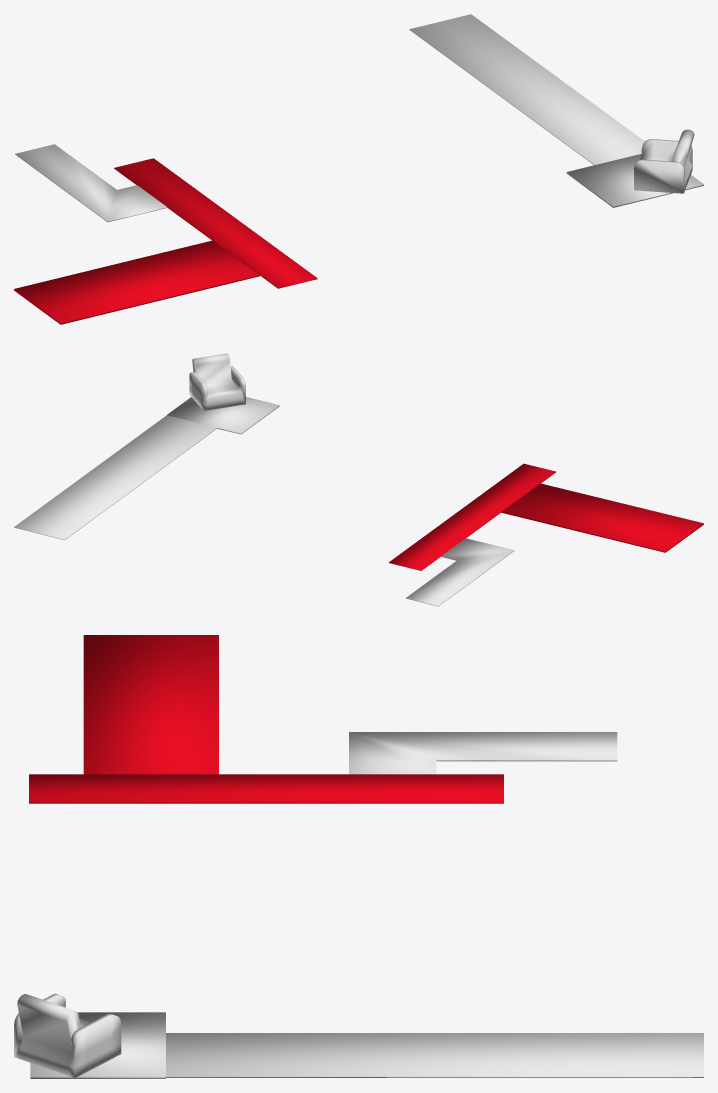
Rendered from SantaWorksTapijt.fbx.
3 renders of one model, top to bottom at view 1: azimuth 30°, elevation 25°; view 2: azimuth 150°, elevation 25°; view 3: azimuth 270°, elevation 25°, orthographic. The views are drawn at different scales.
Parts seen in each view (by area): view 1: tapijt.004, tapijt, tapijt.002, tapijt.001, Cube.097, tapijt.003; view 2: tapijt.004, tapijt, tapijt.002, tapijt.001, Cube.097, tapijt.003; view 3: tapijt.004, tapijt, tapijt.002, tapijt.001, Cube.097, tapijt.003.
Part boxes in pixels (box(x1,y1,x2,y2)): tapijt.004: box(409, 14, 644, 165); tapijt: box(14, 240, 259, 324); tapijt.002: box(114, 158, 317, 288); tapijt.001: box(15, 144, 167, 222); Cube.097: box(634, 129, 694, 193); tapijt.003: box(566, 154, 703, 207); tapijt.004: box(14, 415, 217, 539); tapijt: box(501, 483, 703, 552); tapijt.002: box(388, 463, 555, 570); tapijt.001: box(405, 538, 514, 606); Cube.097: box(189, 353, 245, 410); tapijt.003: box(167, 397, 279, 434); tapijt.004: box(166, 1033, 703, 1077); tapijt: box(83, 635, 218, 774); tapijt.002: box(29, 774, 503, 803); tapijt.001: box(349, 732, 617, 774); Cube.097: box(14, 993, 121, 1077); tapijt.003: box(30, 1012, 165, 1078).
Size of the model in its own units: 2868 by 200 by 1882.
